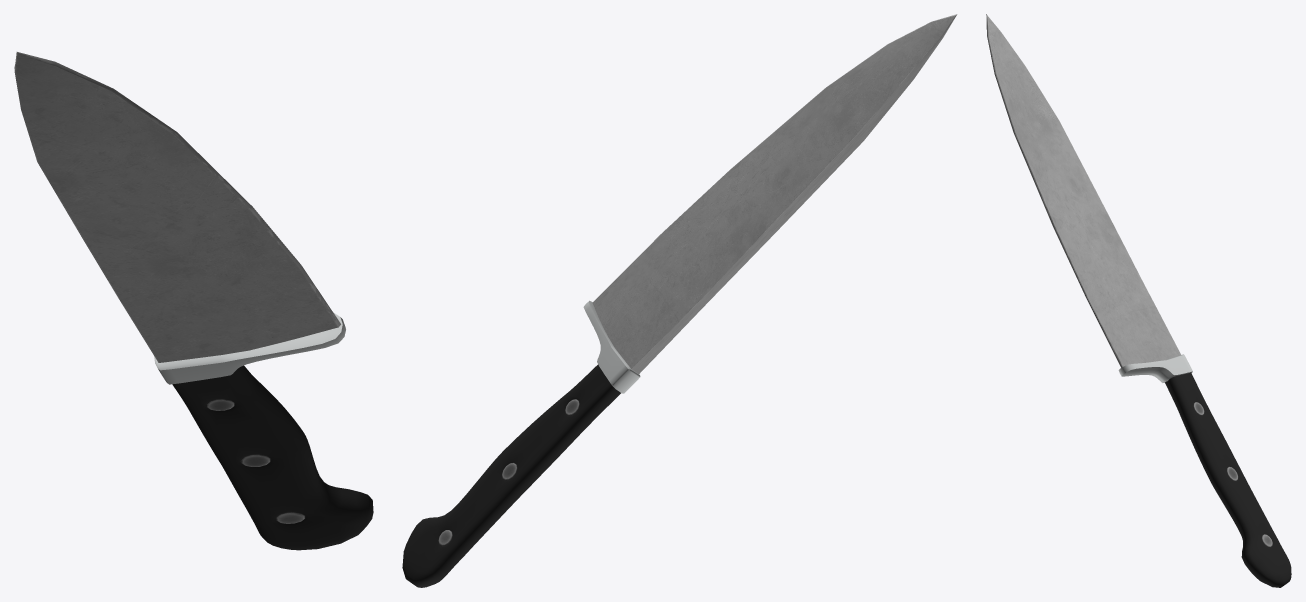
File: kitchen_knife.obj
3 views of the same model, side by side, from view 1: azimuth 30°, elevation 25°; view 2: azimuth 150°, elevation 25°; view 3: azimuth 270°, elevation 25° (orthographic). The views are drawn at different scales.
Parts seen in each view (by area): view 1: dynamic; view 2: dynamic; view 3: dynamic.
Part boxes in pixels (x1=…): dynamic: x1=14, y1=52, x2=373, y2=550; dynamic: x1=402, y1=14, x2=957, y2=587; dynamic: x1=986, y1=14, x2=1291, y2=587.
Size of the model in its own units: 3.95 by 5.18 by 3.34.
1 material, 1 textured.
